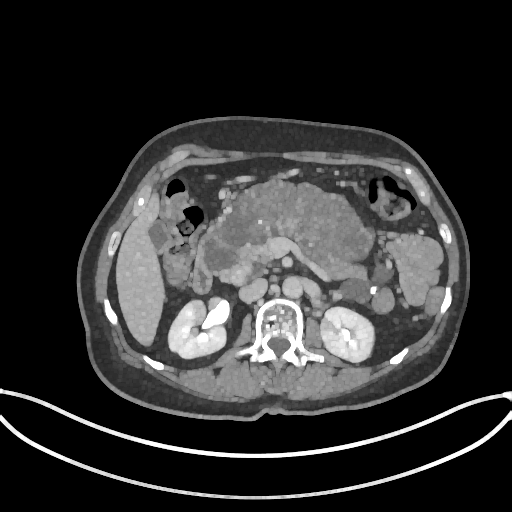Lesion: (317, 316, 343, 337)
